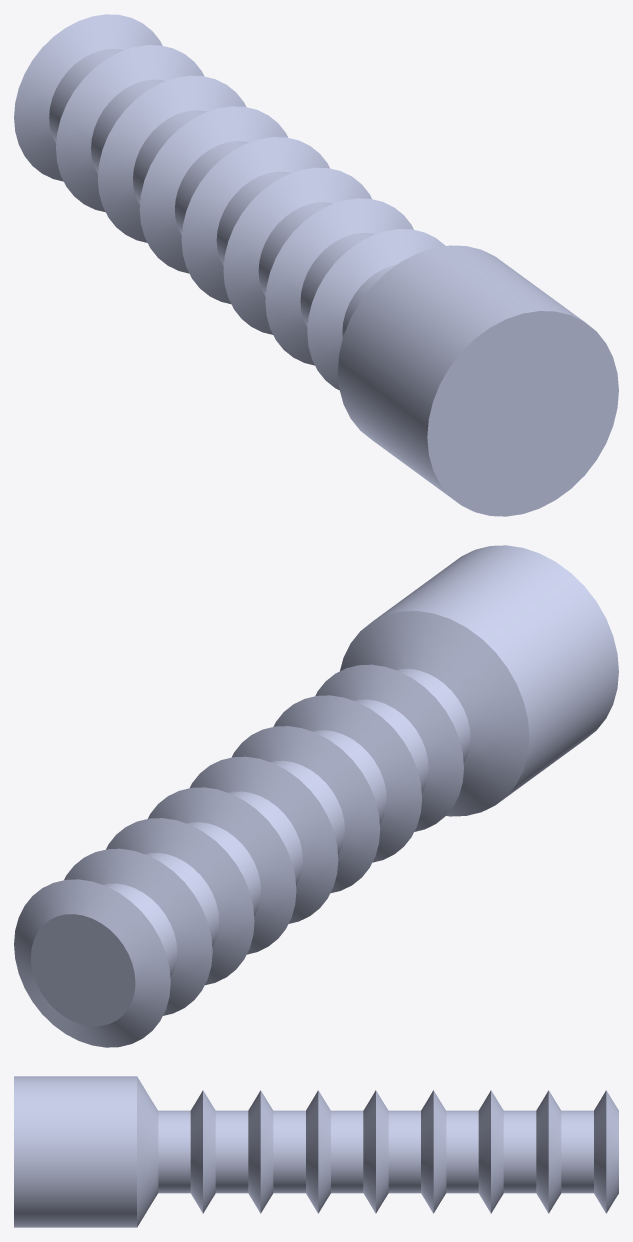
Rendered from bellow-cav.obj.
3 renders of one model, top to bottom at view 1: azimuth 30°, elevation 25°; view 2: azimuth 150°, elevation 25°; view 3: azimuth 270°, elevation 25°, orthographic. The views are drawn at different scales.
Parts seen in each view (by area): view 1: bellow-cav; view 2: bellow-cav; view 3: bellow-cav.
Boxes of the visible parts, bbox=[...] form: bellow-cav: bbox=[14, 14, 618, 516]; bellow-cav: bbox=[14, 545, 618, 1047]; bellow-cav: bbox=[14, 1076, 618, 1227].
Size of the model in its own units: 8.4 by 8.4 by 33.4.
